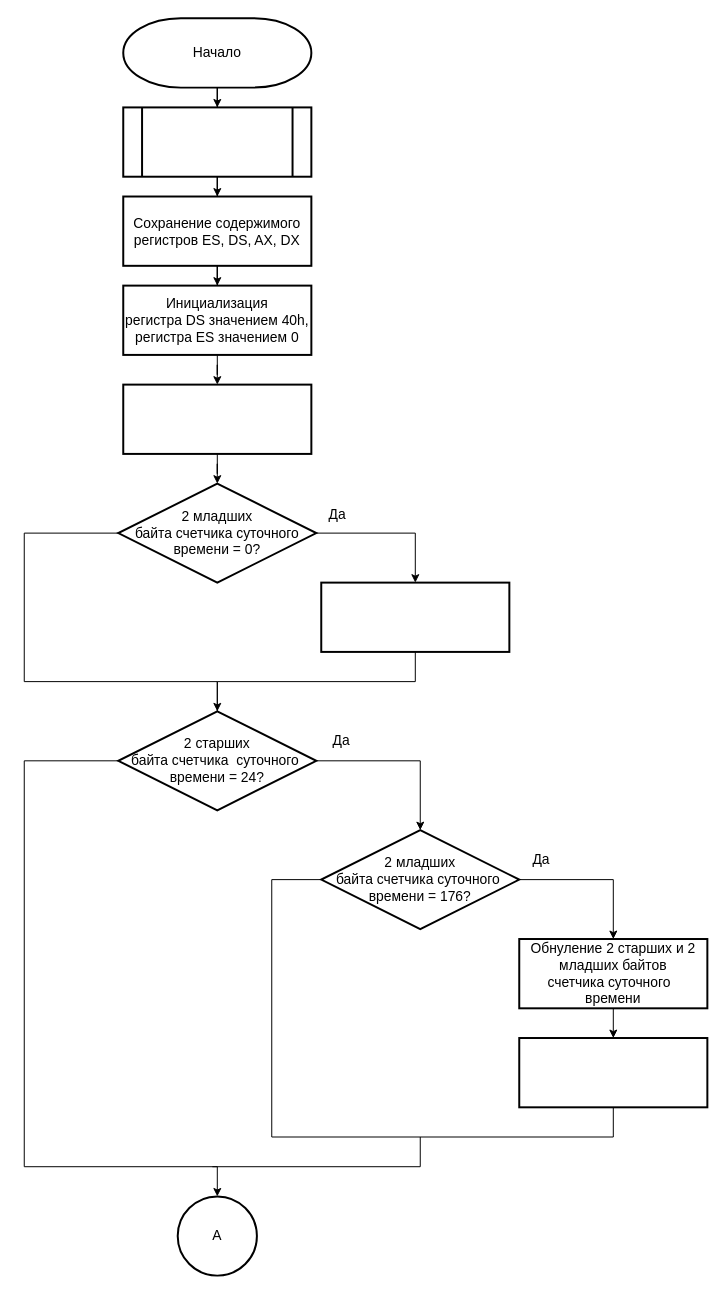
Some shapes in this 726 by 1293 pixel diagram are drawn without their labels. Here are the shapes that lost their labels. From the top down, the box of each, then its label:
(122, 106, 312, 177): Вызов подпрограммы sub_2
(122, 383, 312, 454): Инкремент 2 младших байтов счетчика суточного времени по адресу 0040:006C
(320, 581, 510, 652): Инкремент 2 старших байтов счетчика суточного времени по адресу 0040:006E
(518, 1037, 708, 1108): Установка флага прошедших суток по адресу 0040:0070
